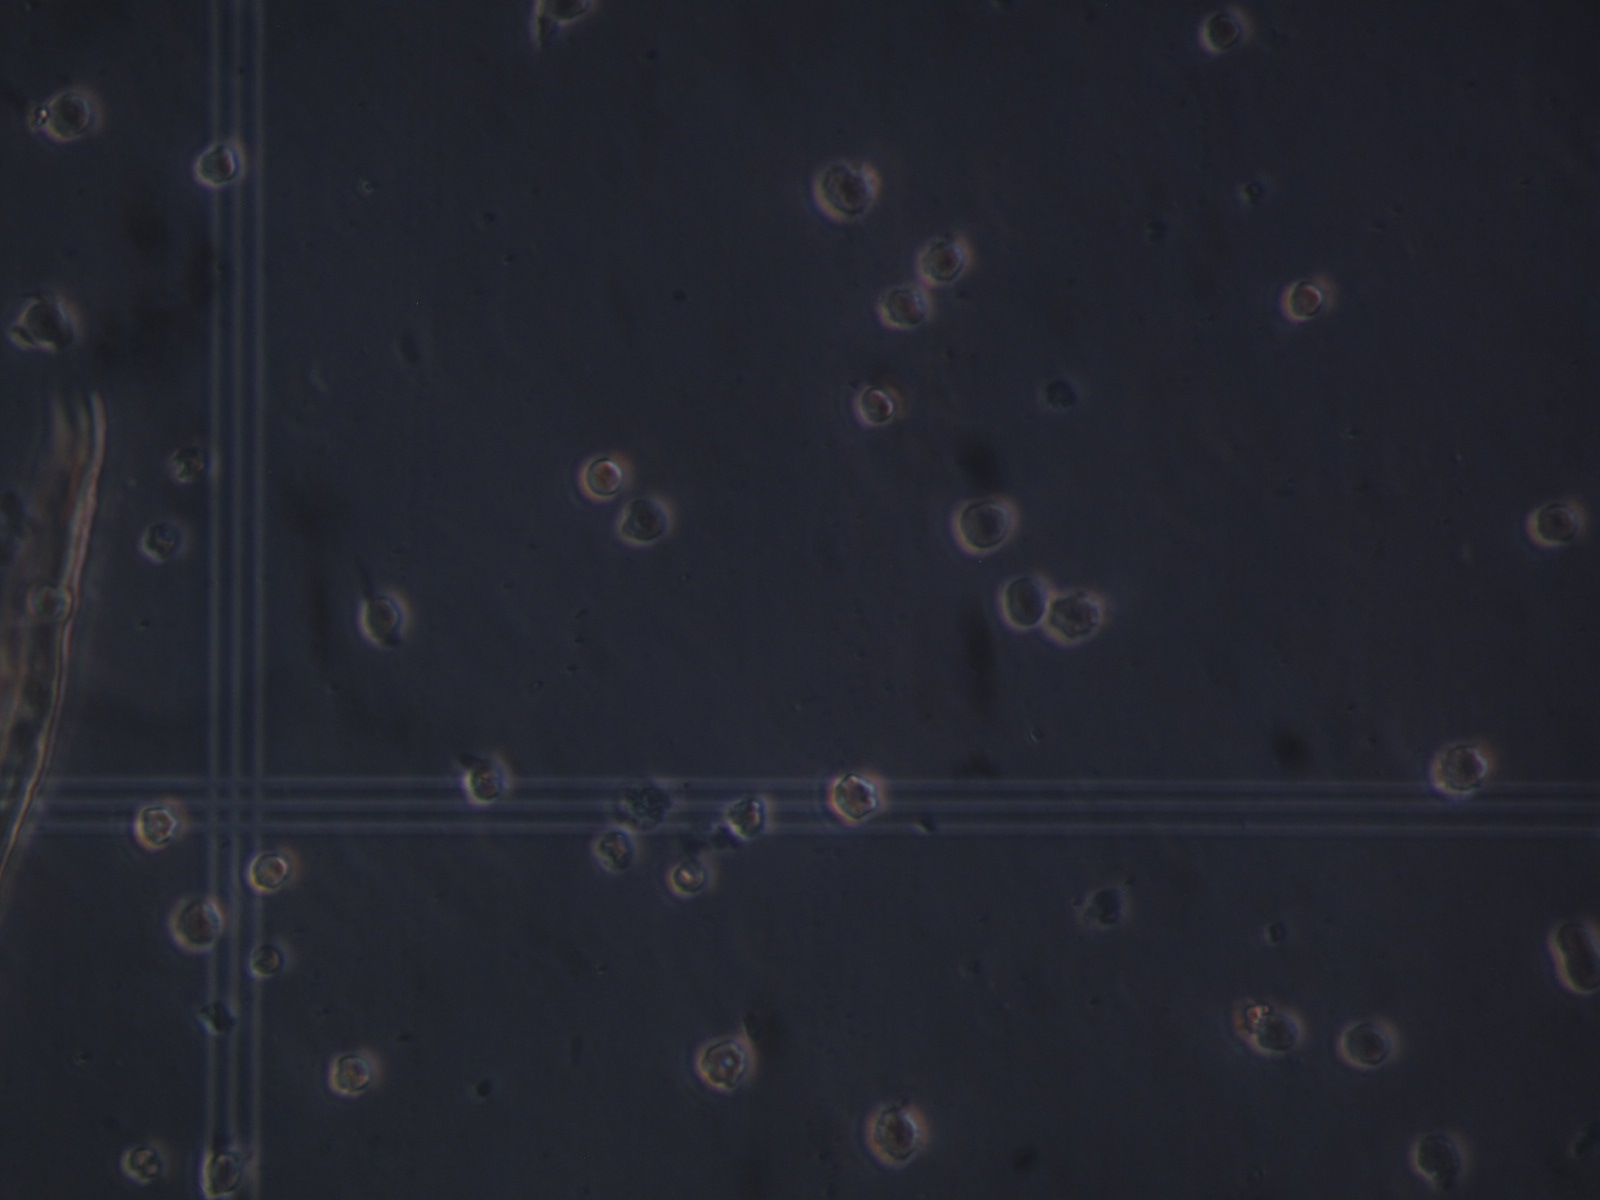hemo: (809, 153, 879, 223), (863, 1100, 929, 1174), (950, 494, 1019, 558), (1047, 585, 1106, 650), (1431, 741, 1498, 799), (166, 892, 227, 955), (20, 294, 83, 353), (42, 88, 107, 144), (614, 489, 675, 547), (695, 1036, 756, 1094), (999, 568, 1053, 632), (1409, 1128, 1466, 1186), (915, 231, 975, 286), (826, 771, 887, 827), (574, 449, 636, 500), (357, 585, 409, 642), (850, 379, 907, 432), (1524, 499, 1584, 550), (244, 847, 302, 897), (1339, 1020, 1398, 1069), (876, 285, 937, 332), (132, 799, 189, 850), (330, 1047, 384, 1099), (464, 753, 514, 808), (139, 513, 193, 563), (722, 790, 772, 845), (1250, 1010, 1304, 1059), (1197, 4, 1254, 50), (194, 139, 248, 187), (1284, 272, 1335, 321), (591, 824, 641, 874), (668, 855, 718, 901), (247, 935, 294, 981), (122, 1142, 170, 1185), (1545, 919, 1600, 955), (1558, 950, 1600, 995), (533, 1, 600, 25)
